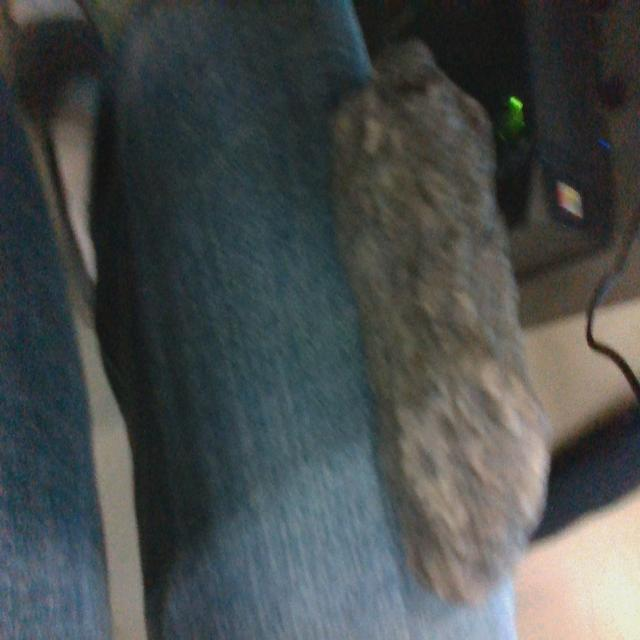stone: (328, 37, 552, 606)
